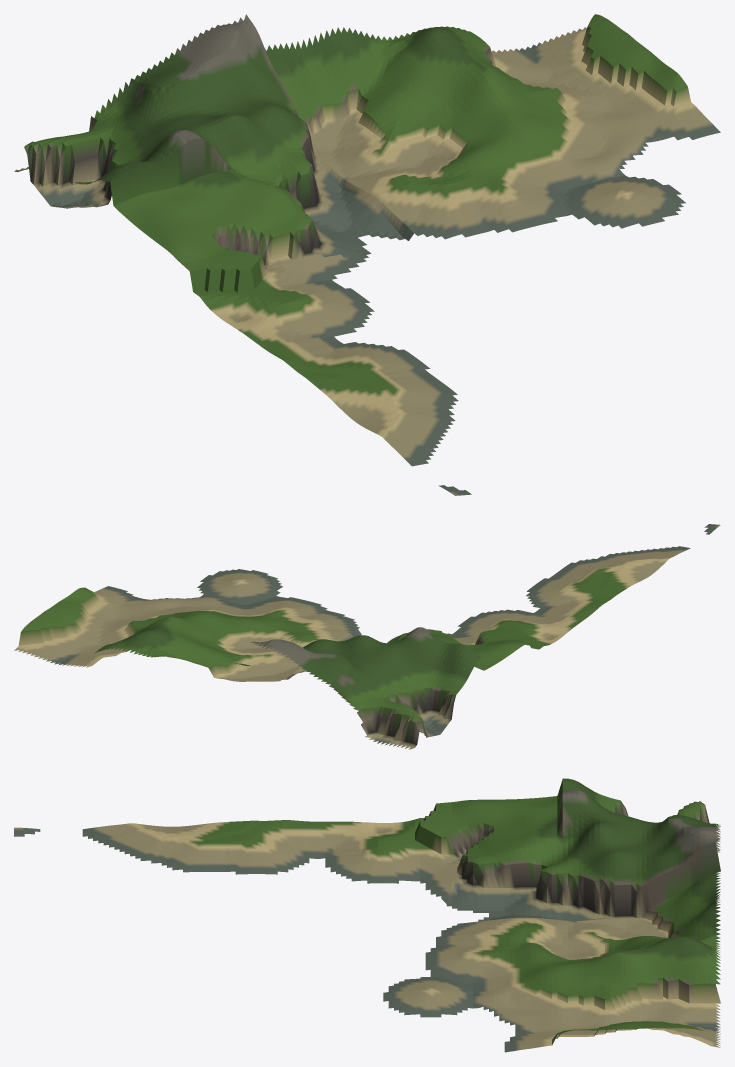
Rendered from coast_tile_x1z2.glb.
The picture shows the model from 3 angles, top to bottom: view 1: azimuth 30°, elevation 25°; view 2: azimuth 150°, elevation 25°; view 3: azimuth 270°, elevation 25°; orthographic projection. The views are drawn at different scales.
Parts seen in each view (by area): view 1: geometry_0; view 2: geometry_0; view 3: geometry_0.
Boxes of the visible parts, left/top/right/bottom form: geometry_0: left=14, top=14, right=720, bottom=495; geometry_0: left=14, top=524, right=720, bottom=749; geometry_0: left=14, top=778, right=720, bottom=1052.
Bounding box in the file's own units: 600 × 108 × 804.
